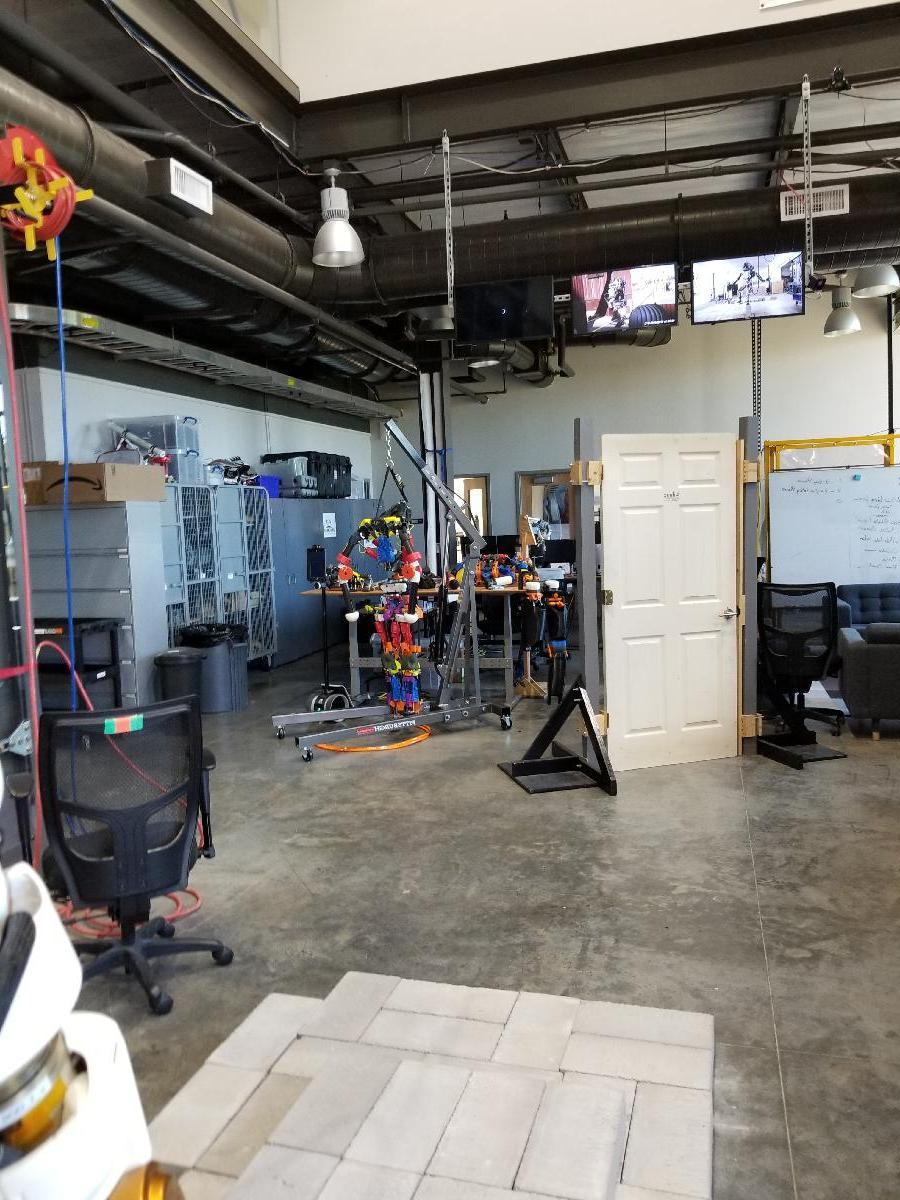door: (596, 430, 736, 772)
handle: (712, 608, 740, 623)
